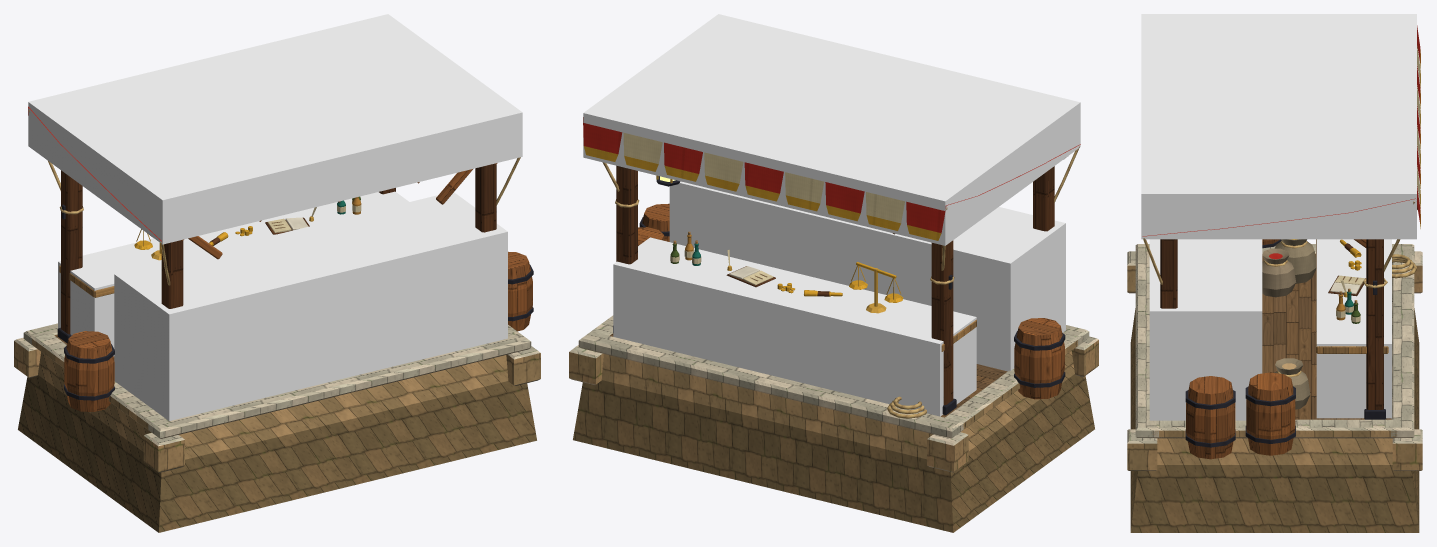
Rendered from outpost_stall.glb.
3 views of the same model, side by side, from view 1: azimuth 30°, elevation 25°; view 2: azimuth 150°, elevation 25°; view 3: azimuth 270°, elevation 25° (orthographic). The views are drawn at different scales.
Visible parts, largest first — view 1: OutpostStall, col_stall_roof, col_stall_back, col_stall_counter; view 2: OutpostStall, col_stall_roof, col_stall_counter, col_stall_back; view 3: col_stall_roof, OutpostStall, col_stall_back, col_stall_counter.
Boxes of the visible parts, box(x1,y1,x2,y2) form: OutpostStall: box(14, 106, 540, 532); col_stall_roof: box(28, 14, 522, 244); col_stall_back: box(114, 192, 507, 420); col_stall_counter: box(58, 191, 408, 356); OutpostStall: box(569, 117, 1098, 532); col_stall_roof: box(583, 14, 1080, 245); col_stall_counter: box(613, 237, 976, 416); col_stall_back: box(669, 181, 1065, 371); col_stall_roof: box(1141, 14, 1416, 239); OutpostStall: box(1127, 25, 1422, 532); col_stall_back: box(1149, 239, 1262, 420); col_stall_counter: box(1316, 239, 1391, 418).
Bounding box in the file's own units: 6.23 × 4.42 × 3.54.
Materials: 9 (7 with a texture image).
